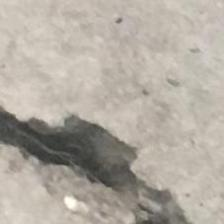Crack: (0, 96, 195, 224)
